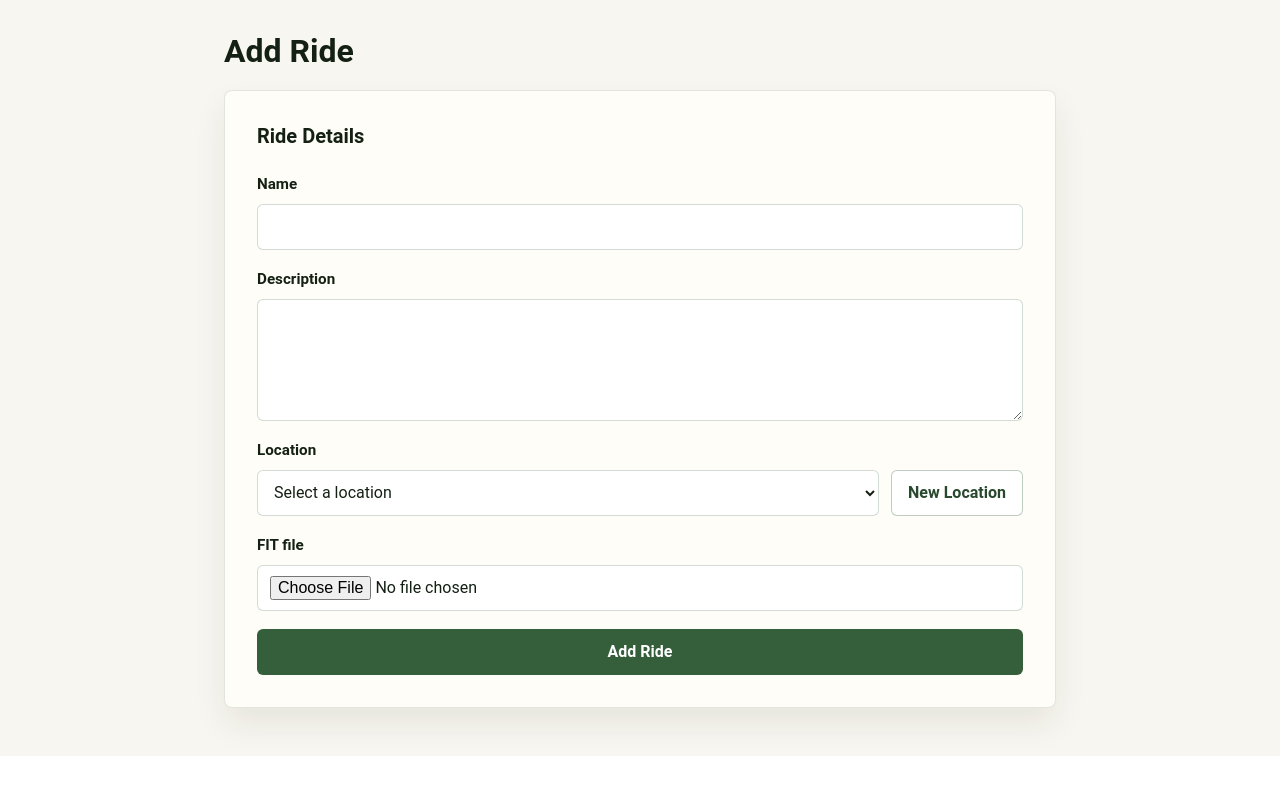
Test case: AddRideView › creates a location and selects it
The image size is (1280, 800).
Click the button with class "secondary-action": (957, 493) [891, 470, 1023, 516]
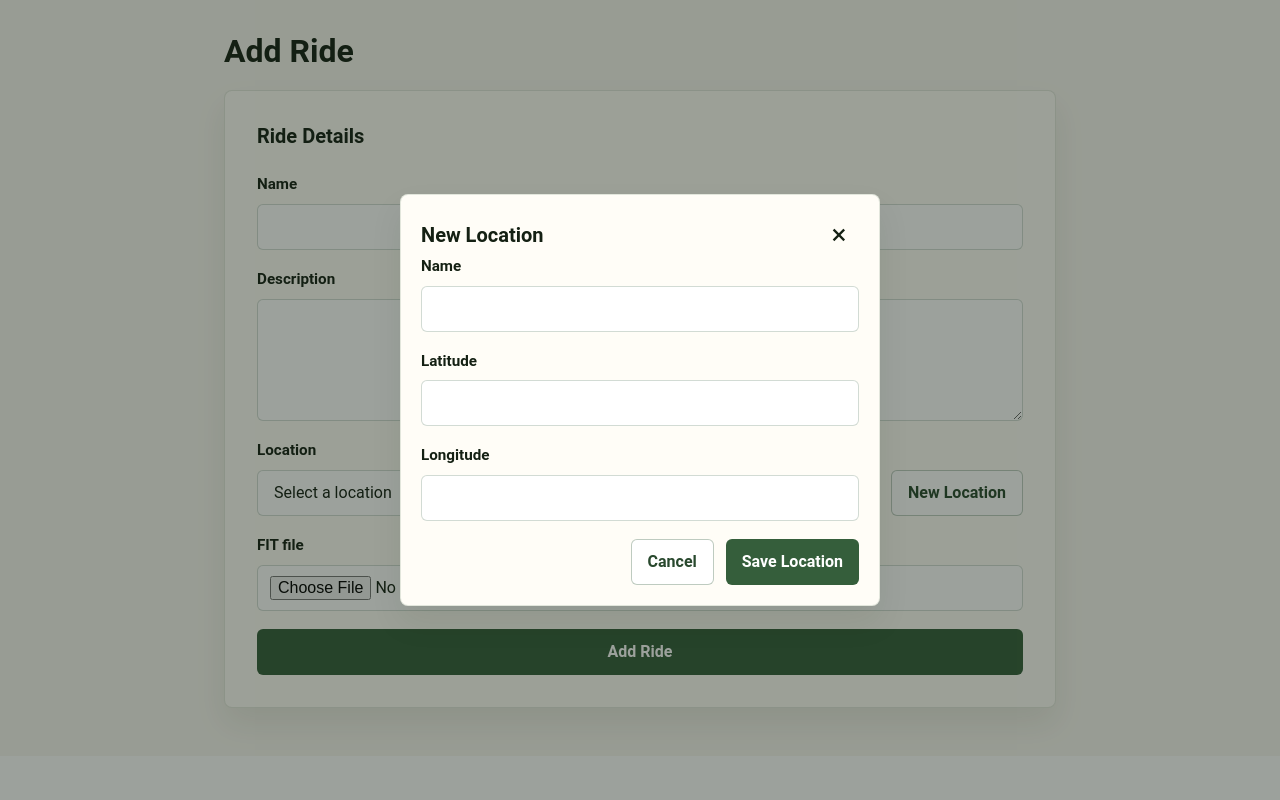
In the field with id "new-location-name": (640, 309) [421, 286, 859, 332], type "River Loop"
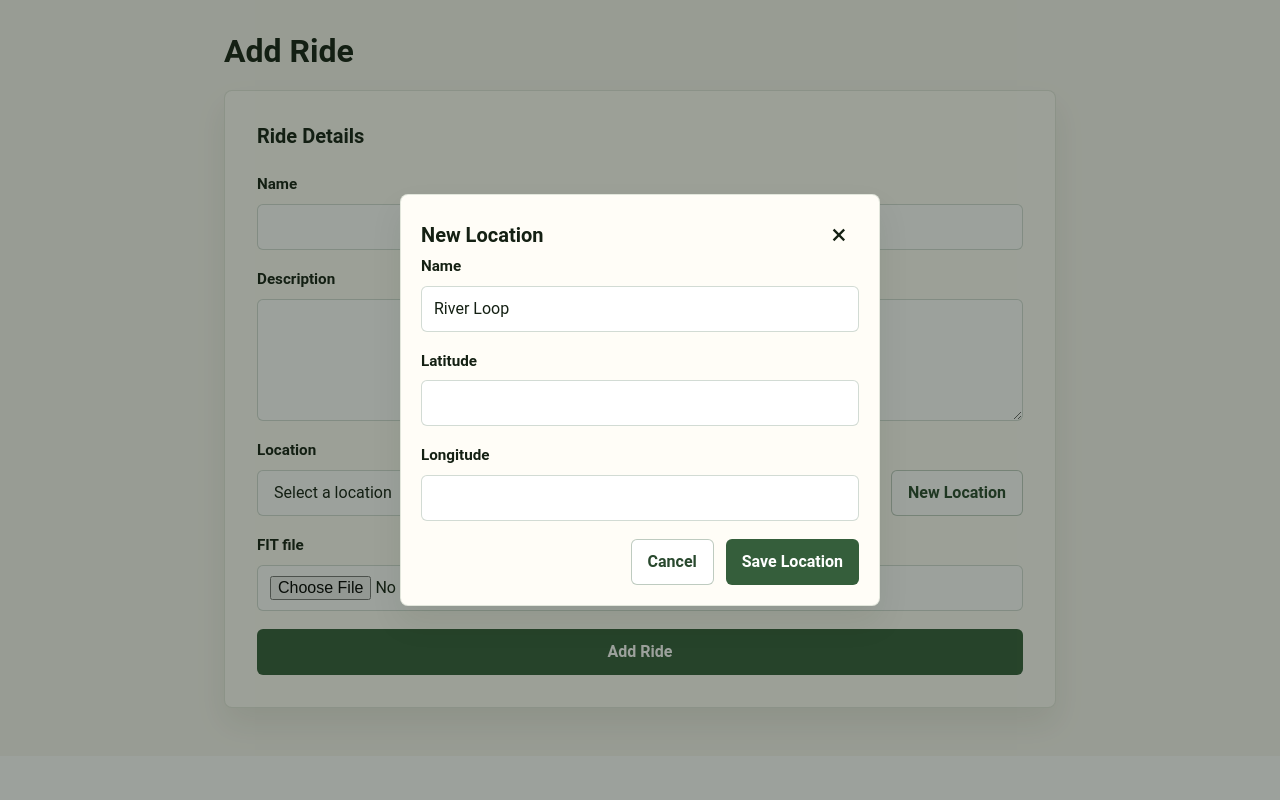
In the field with id "new-location-latitude": (640, 403) [421, 380, 859, 426], type "40.1"
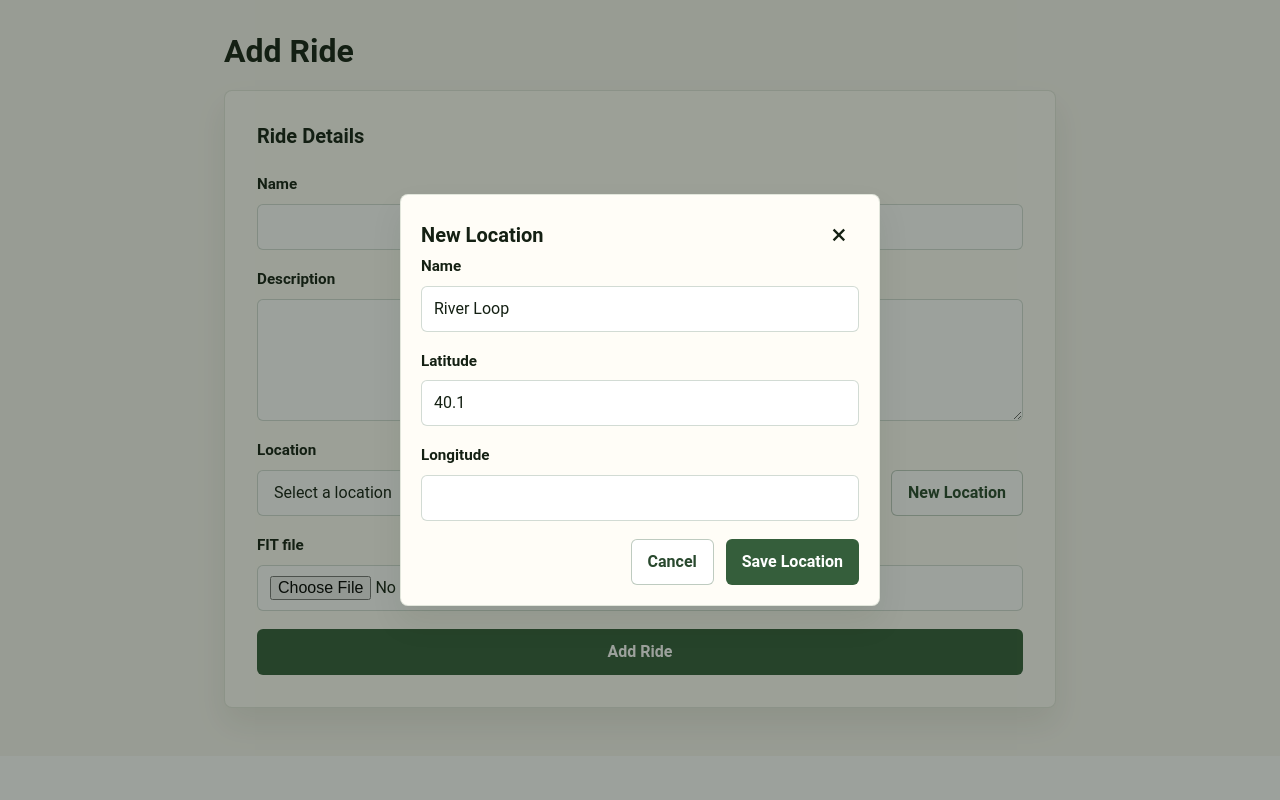
In the field with id "new-location-longitude": (640, 498) [421, 475, 859, 521], type "-79.1"
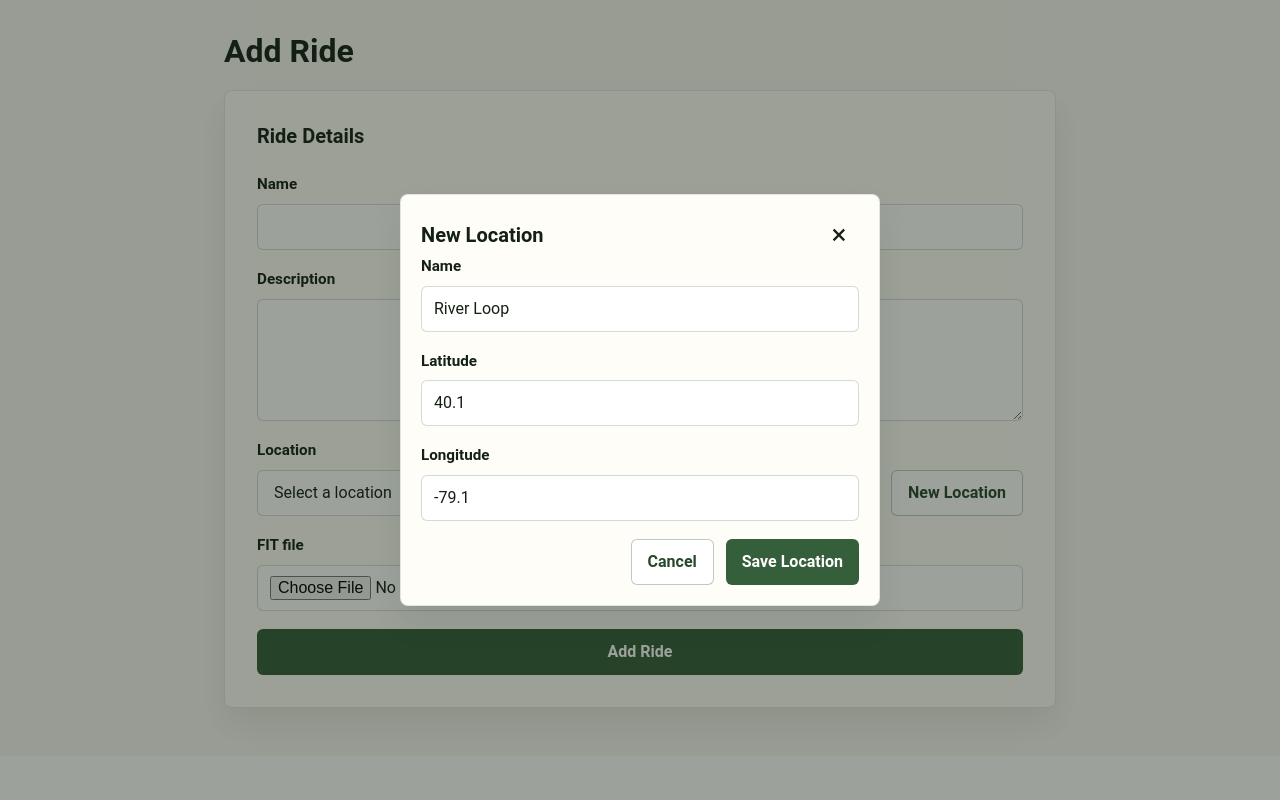
Submit the form with class "location-form", box [421, 255, 859, 585]
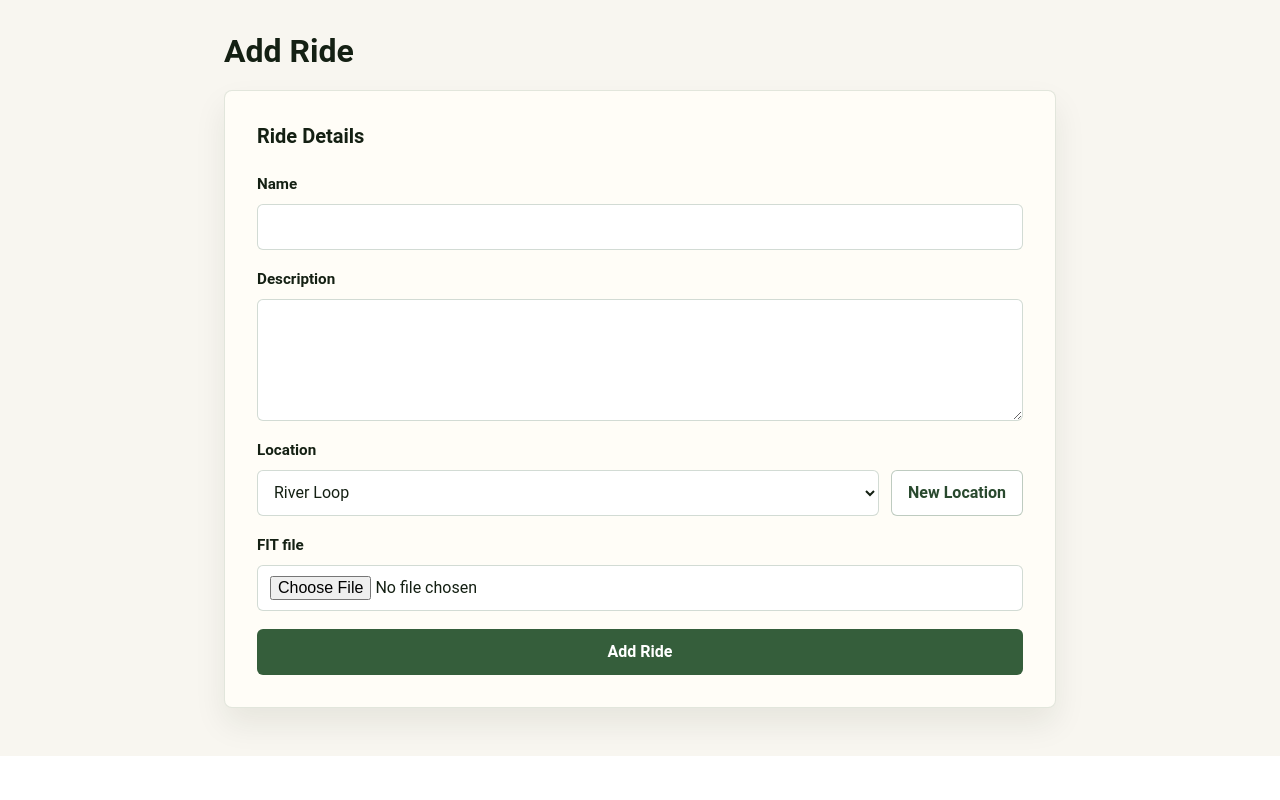
Now the dropdown with id "ride-location" shows "River Loop", box [257, 470, 879, 516]
